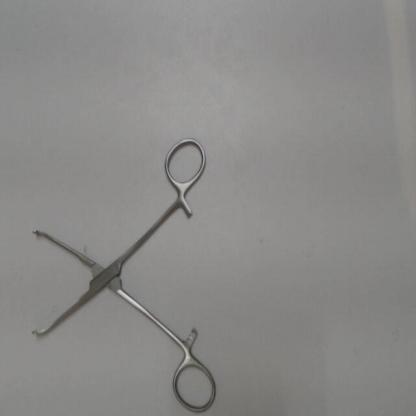Allis Tissue Forceps: (28, 128, 220, 414)
